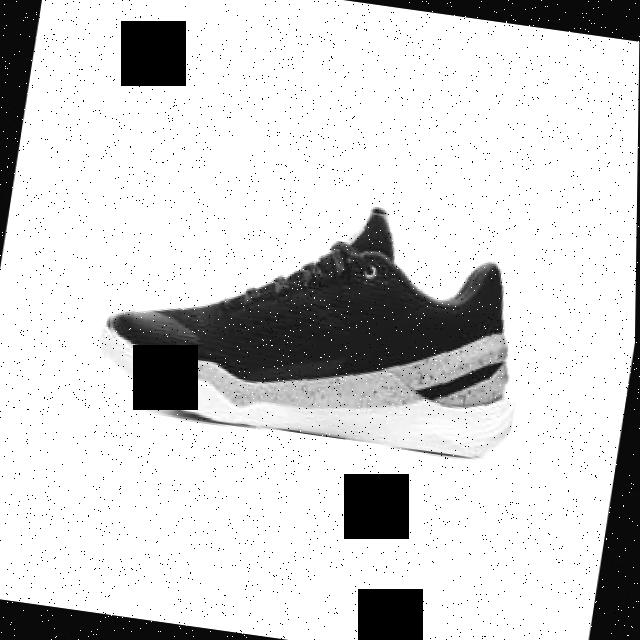shoe: (94, 172, 543, 462)
